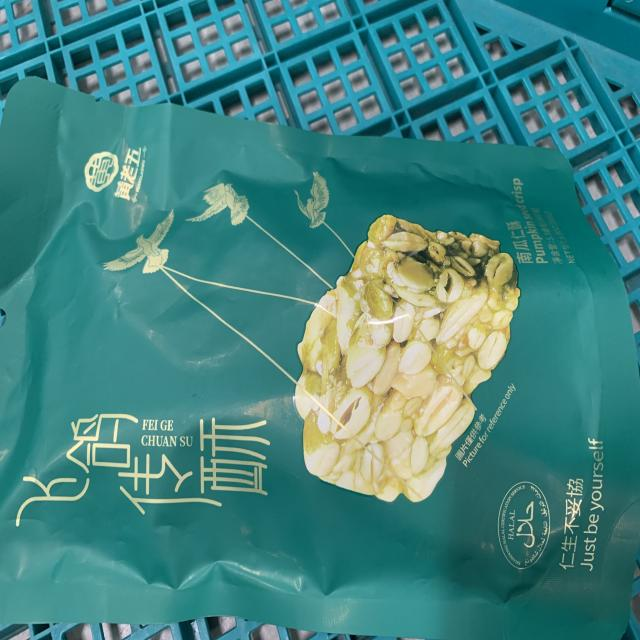object_name: (0, 80, 640, 640)
